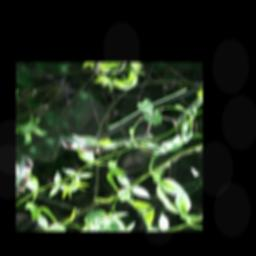Cuckoo: (56, 100, 153, 173)
